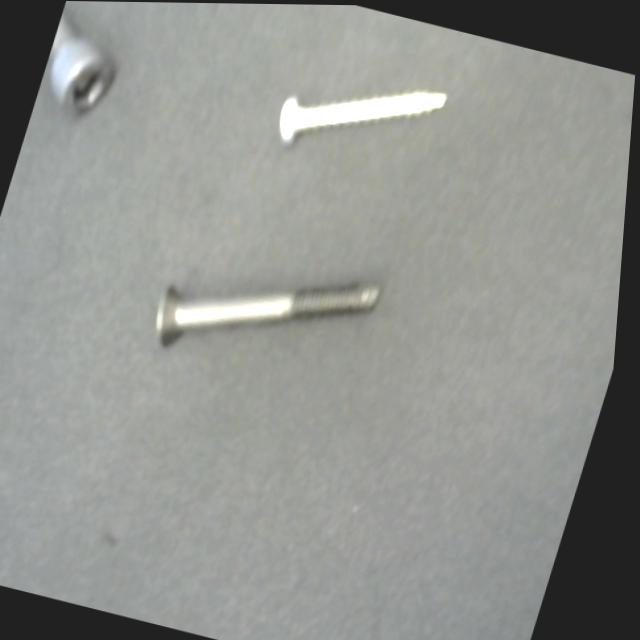FlatHeadSocketScrew: (134, 218, 395, 403)
SheetMetalScrew: (262, 39, 462, 191)
SocketHeadCapScrew: (28, 12, 141, 147)
